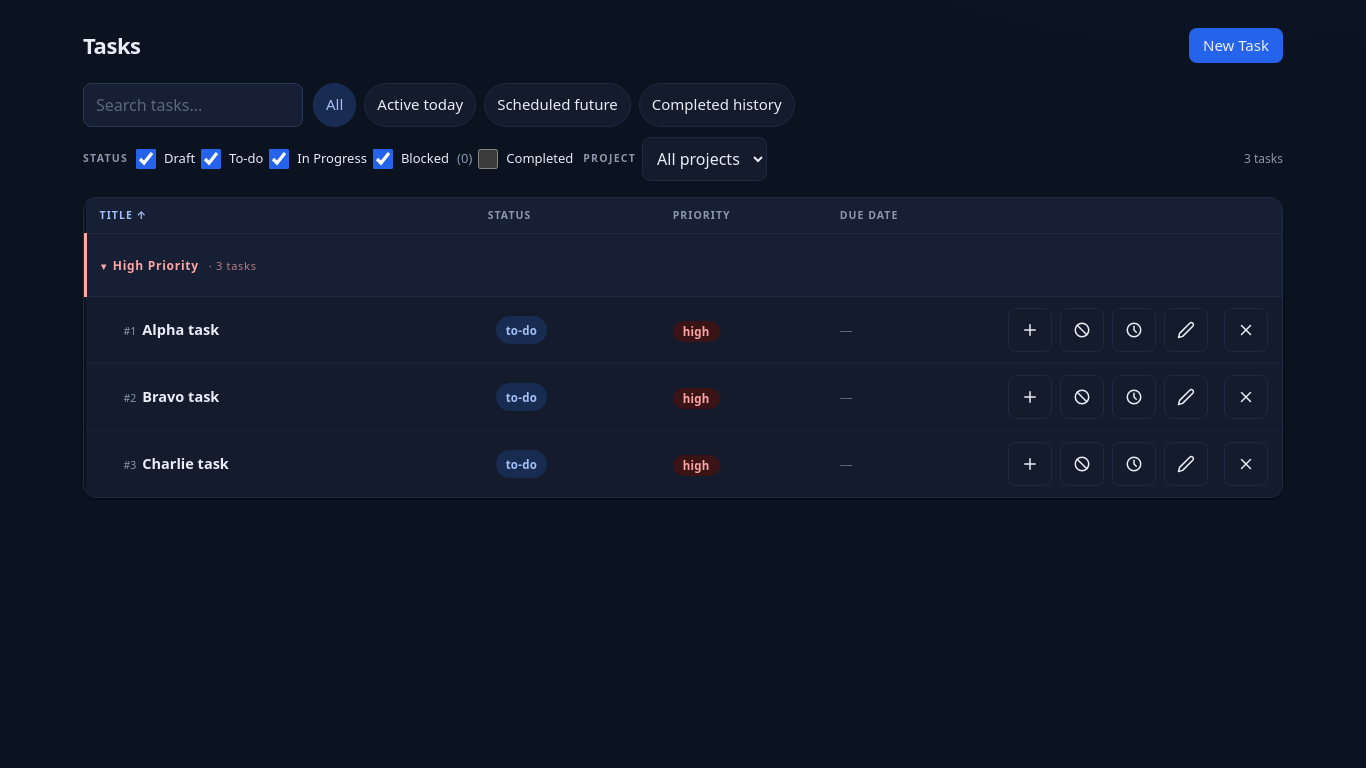
TasksPage undoable delete (#321) › Undo (AC6) › Undo after the row no longer exists is a no-op
Expected: the heading "Tasks" is shown, [83, 29, 141, 62]
Click the button named "Delete task: Alpha task": (1246, 330) [1224, 308, 1268, 352]
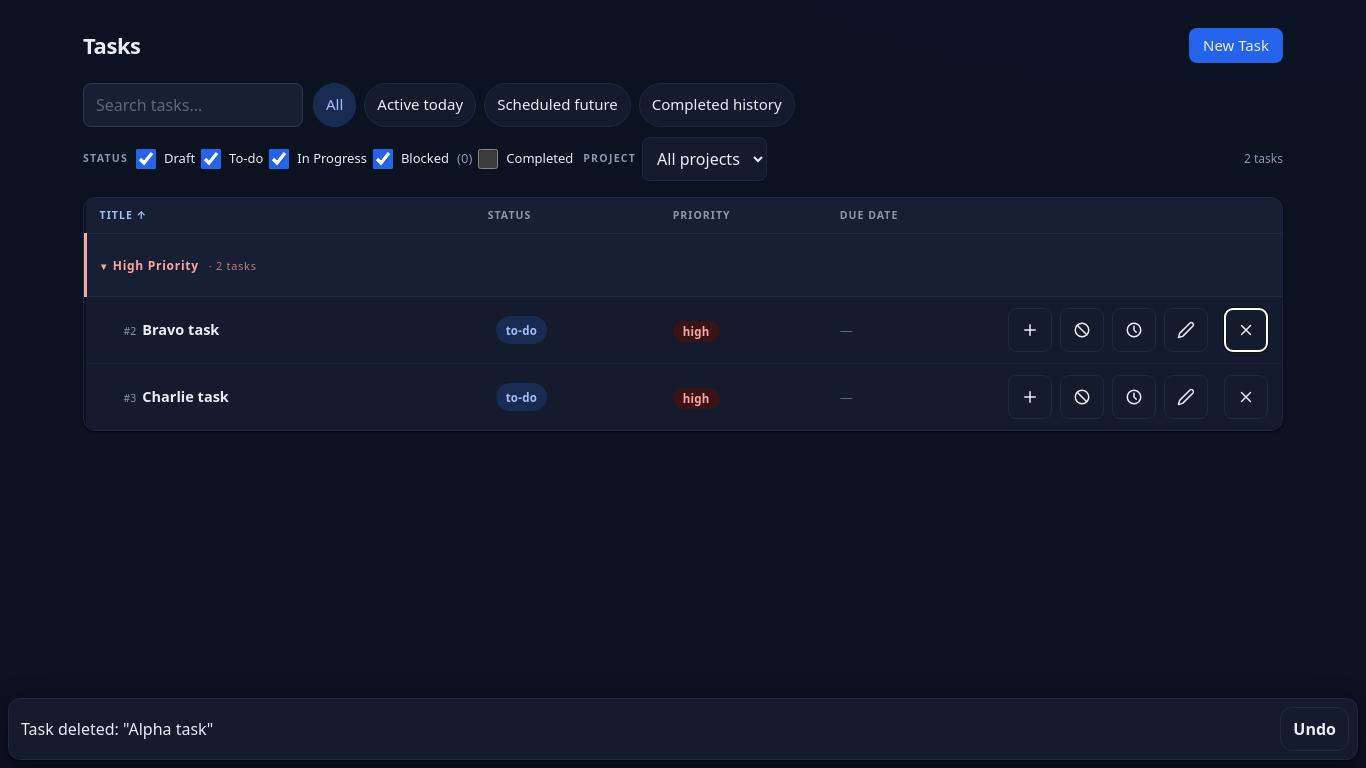
Note: The row is hidden by a search filter when Undo runs.
In the field with placeholder "Search tasks...": (193, 104) [83, 82, 303, 126], type "Charlie"
Wait 250 ms
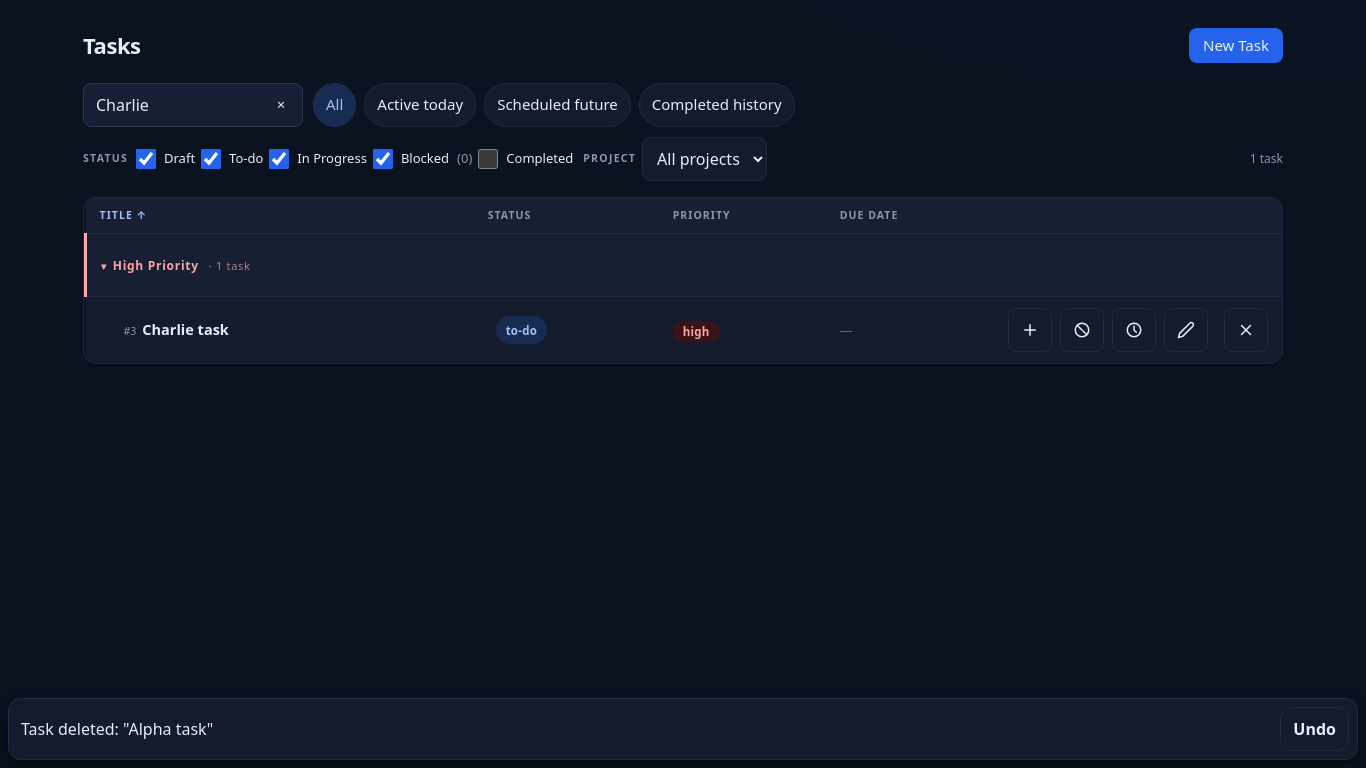
Click the button "Undo": (1315, 729) [1280, 707, 1349, 751]
Wait 20 ms
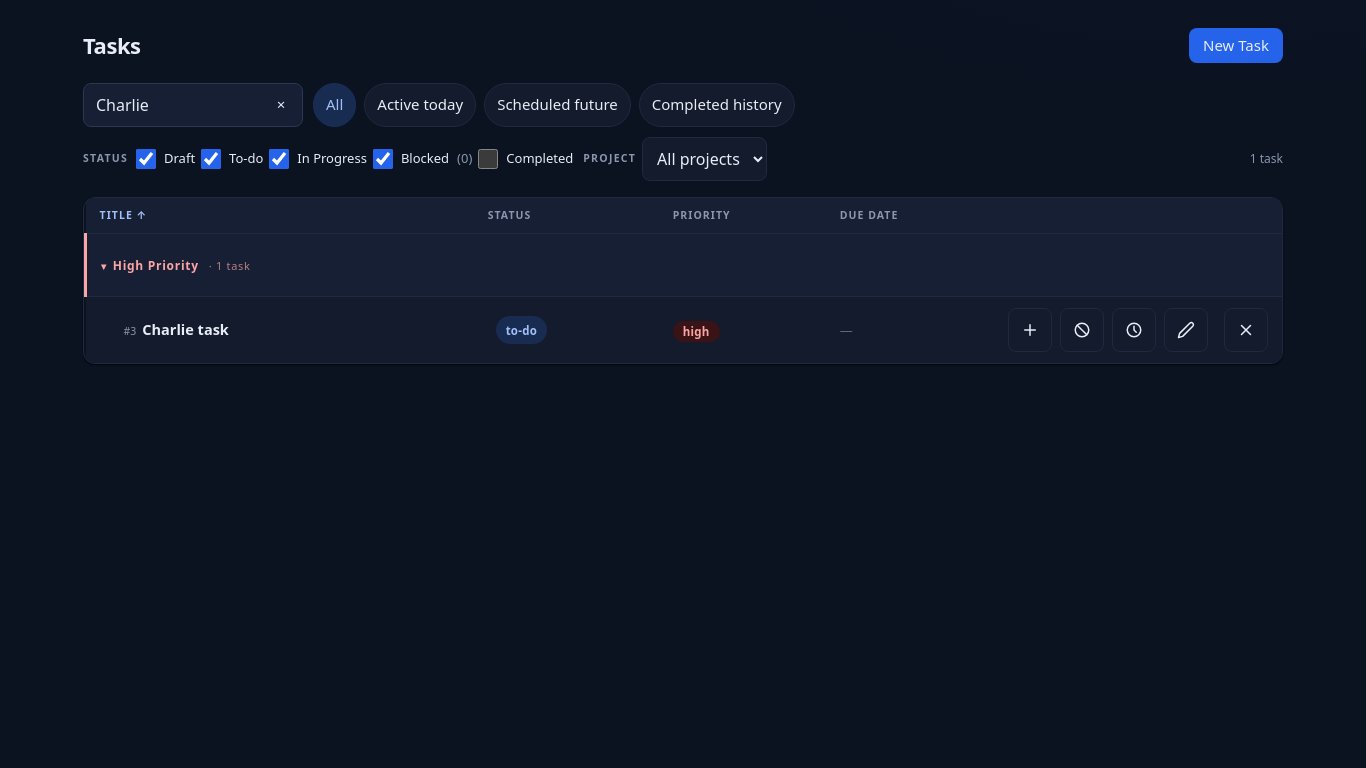
Expected: the link "Charlie task" is shown, [142, 320, 229, 340]
Now the text "Alpha task" is gone
